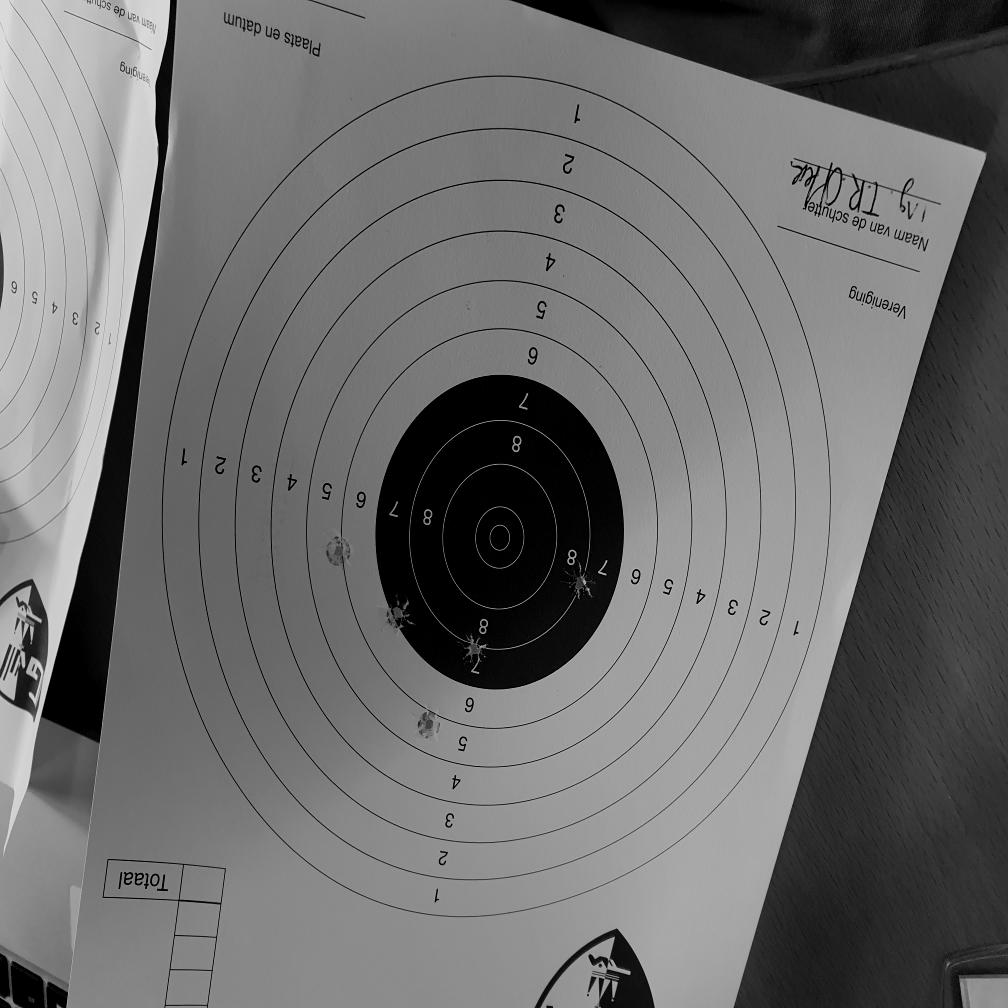6: (320, 532, 352, 581), (416, 708, 446, 754)
7: (381, 592, 414, 641)
8: (460, 628, 488, 677), (566, 566, 595, 601)
Target: (162, 76, 830, 923)
black_contour: (374, 375, 625, 690)
